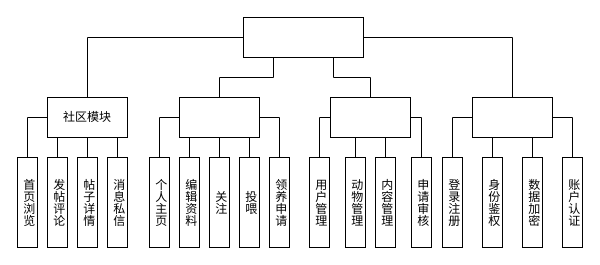
This 600x265 diagram has some shape labels left out. Here are the shapes that lost their labels. From the top down, the centre of each, then its label:
At (303,37): "流浪动物救助平台".
At (219,117): "用户模块".
At (370,117): "管理模块".
At (512,117): "安全模块".
